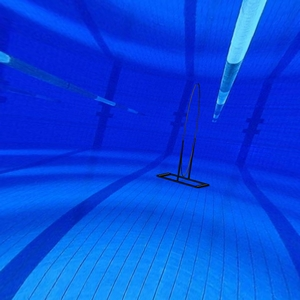circle: (156, 81, 212, 192)
